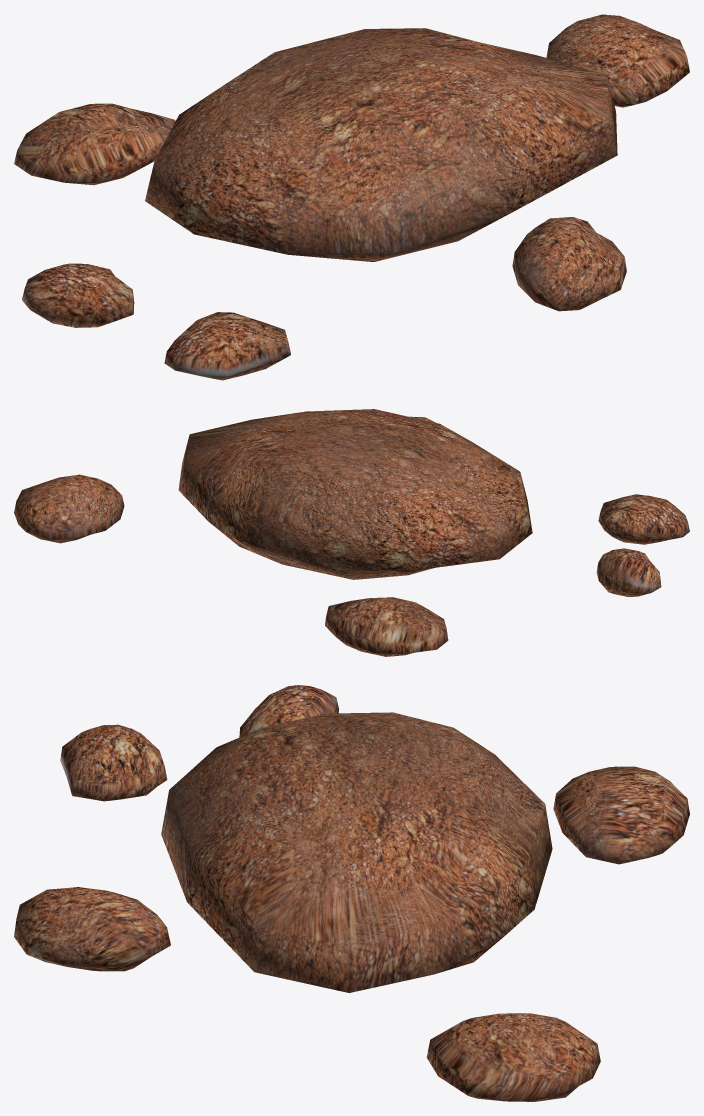
Rendered from Roca_003_Correct_Textures.fbx.
The picture shows the model from 3 angles, top to bottom: view 1: azimuth 30°, elevation 25°; view 2: azimuth 150°, elevation 25°; view 3: azimuth 270°, elevation 25°; orthographic projection. The views are drawn at different scales.
Parts seen in each view (by area): view 1: Cube.001; view 2: Cube.001; view 3: Cube.001.
Boxes of the visible parts, left/top/right/bottom form: Cube.001: left=14, top=14, right=689, bottom=380; Cube.001: left=14, top=409, right=689, bottom=656; Cube.001: left=14, top=685, right=689, bottom=1101.
Size of the model in its own units: 604 by 122 by 433.
1 material, 1 textured.
